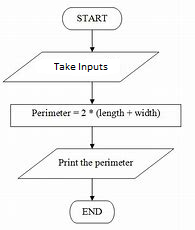arrow: (88, 81, 97, 104), (88, 29, 96, 53), (89, 178, 96, 202), (89, 126, 96, 149)
data: (17, 147, 175, 180), (2, 50, 160, 83)
process: (9, 103, 183, 128)
terminator: (61, 6, 123, 32), (67, 198, 115, 225)
text: (29, 108, 161, 118), (58, 157, 134, 169), (53, 62, 109, 73), (76, 13, 109, 23), (82, 206, 103, 216)
